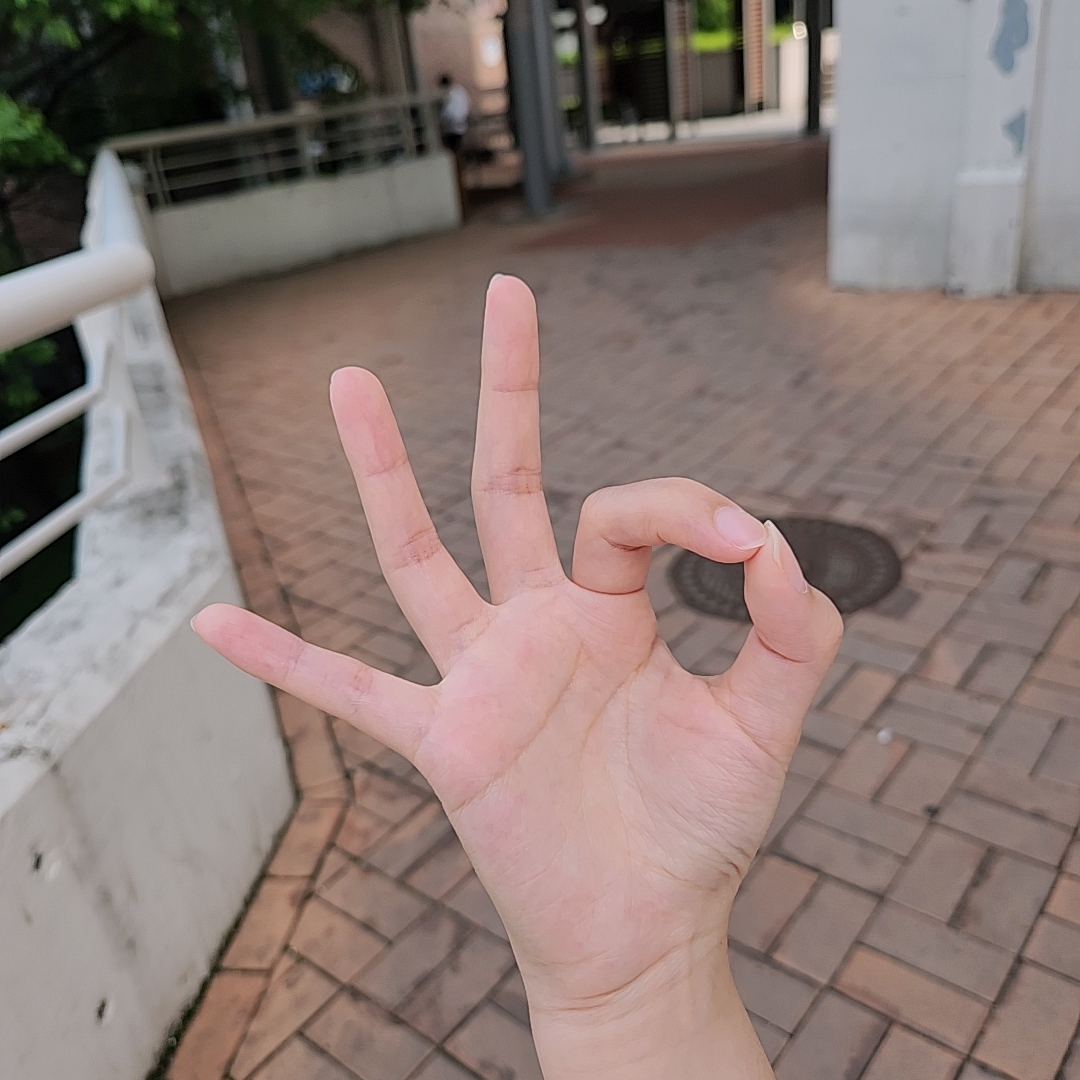see: (192, 275, 845, 928)
